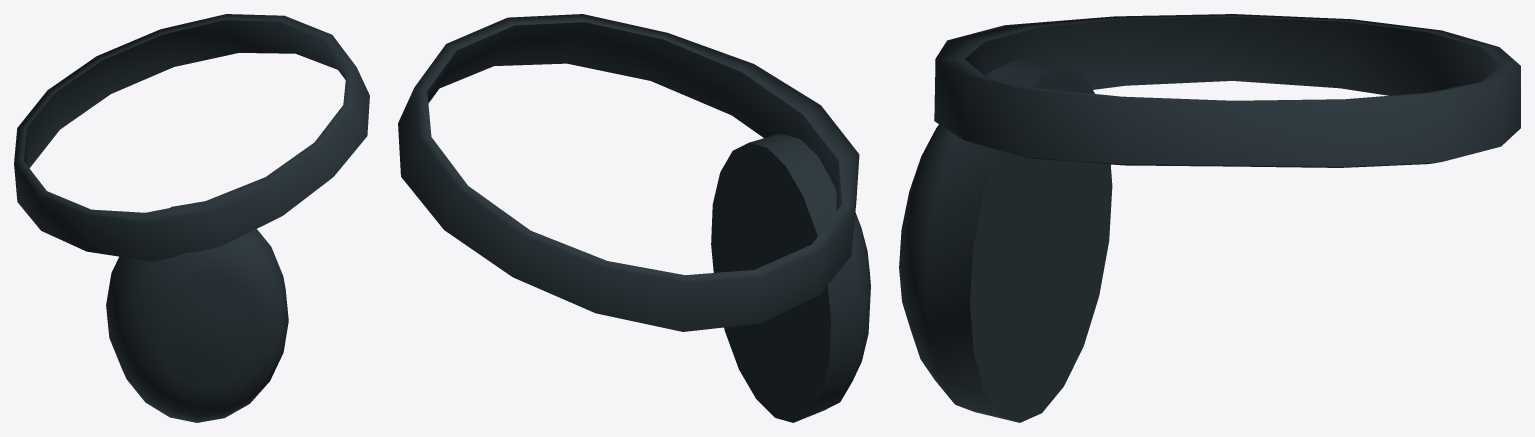
Rendered from blindfold.fbx.
3 views of the same model, side by side, from view 1: azimuth 30°, elevation 25°; view 2: azimuth 150°, elevation 25°; view 3: azimuth 270°, elevation 25° (orthographic). The views are drawn at different scales.
Visible parts, largest first — view 1: blindfold; view 2: blindfold; view 3: blindfold.
Boxes of the visible parts, bbox=[...] form: blindfold: bbox=[14, 14, 369, 422]; blindfold: bbox=[398, 14, 870, 422]; blindfold: bbox=[899, 14, 1520, 422].
Bounding box in the file's own units: 102 × 90.43 × 109.
